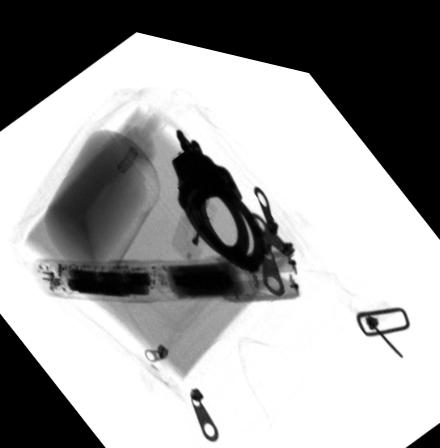Baton: (33, 236, 299, 297)
HandCuffs: (171, 123, 264, 262)
Lighter: (170, 174, 221, 257)
